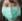with_mask: (1, 1, 22, 21)
